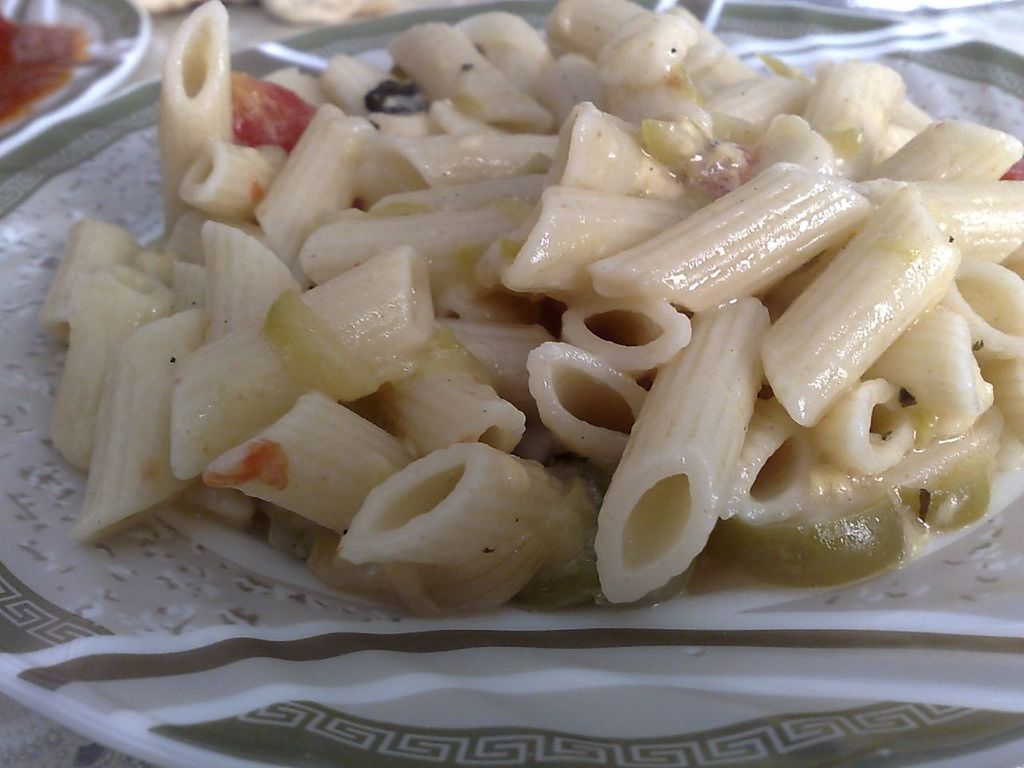pasta: (69, 0, 1024, 628)
